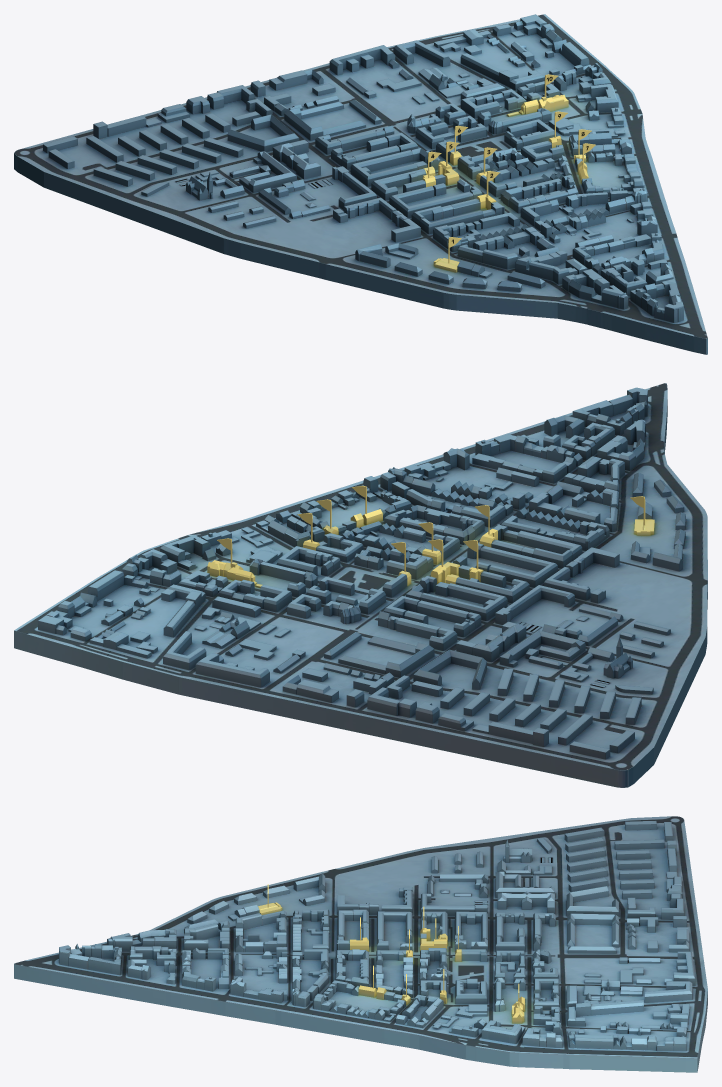
Rendered from Goetheviertel_250919_with_flags_webp80-positioned.glb.
3 renders of one model, top to bottom at view 1: azimuth 30°, elevation 25°; view 2: azimuth 150°, elevation 25°; view 3: azimuth 270°, elevation 25°, orthographic. The views are drawn at different scales.
Parts seen in each view (by area): view 1: Other Buildings, Terrain, Station10; view 2: Other Buildings, Terrain, Station10; view 3: Terrain, Other Buildings.
Part boxes in pixels (x1=…): Other Buildings: x1=43, y1=14, x2=683, y2=322; Terrain: x1=14, y1=14, x2=707, y2=354; Station10: x1=506, y1=94, x2=568, y2=116; Other Buildings: x1=38, y1=387, x2=685, y2=759; Terrain: x1=14, y1=383, x2=707, y2=787; Station10: x1=207, y1=560, x2=262, y2=587; Terrain: x1=14, y1=816, x2=707, y2=1072; Other Buildings: x1=59, y1=820, x2=695, y2=1051.
Size of the model in its own units: 906 by 84.27 by 1099.
2 materials, 2 textured.
